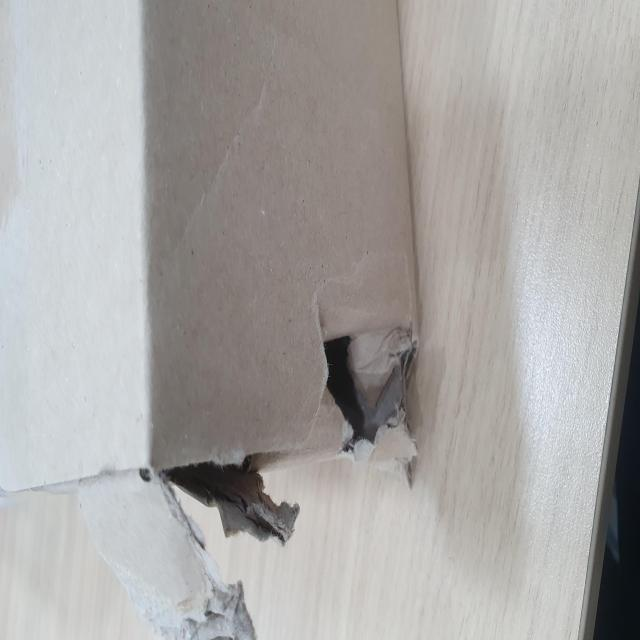damaged: (64, 237, 182, 640)
